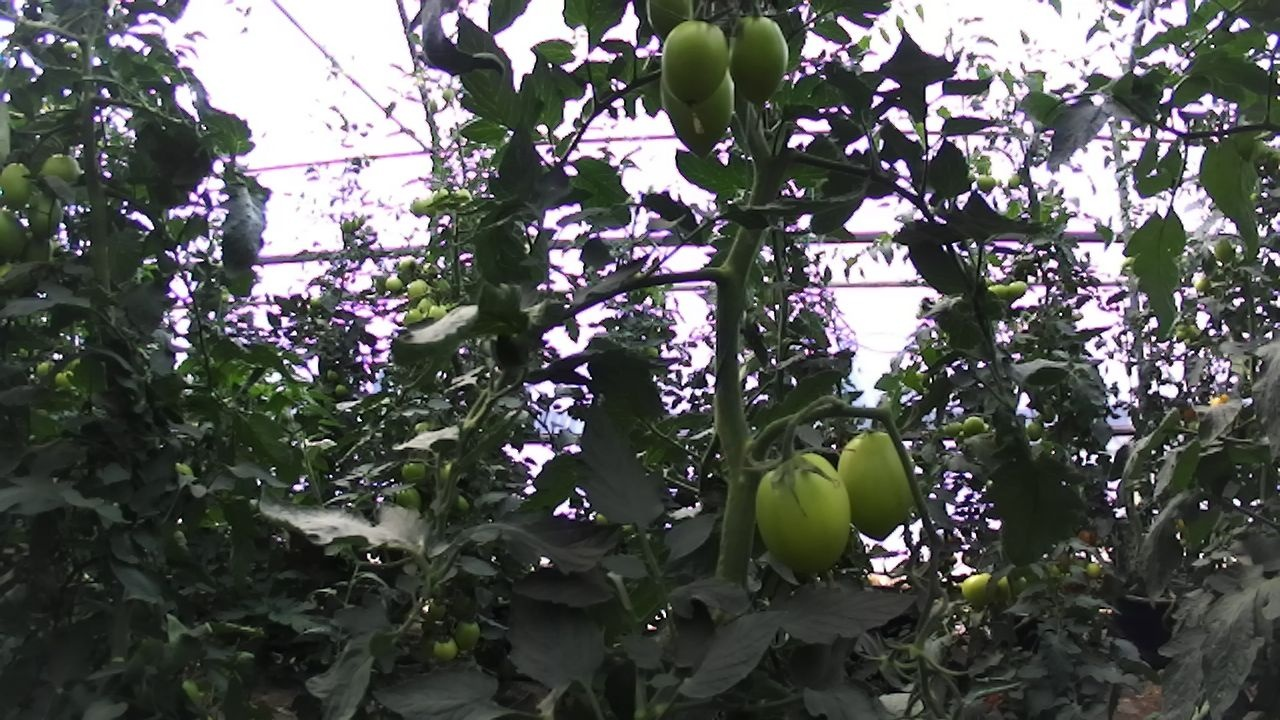tomato: (742, 440, 882, 593), (833, 412, 934, 554), (653, 46, 756, 166), (714, 4, 803, 123), (650, 8, 743, 121), (35, 145, 88, 199), (957, 563, 1008, 617), (24, 183, 69, 244), (0, 152, 41, 214), (0, 200, 33, 267), (14, 226, 61, 273), (451, 611, 485, 657), (430, 629, 464, 666), (394, 483, 427, 518), (959, 411, 993, 444), (398, 455, 431, 487), (1211, 234, 1239, 266), (972, 169, 1002, 198), (403, 274, 433, 303), (428, 183, 455, 213), (394, 252, 422, 280), (381, 271, 410, 298), (424, 299, 451, 328), (400, 303, 428, 330), (51, 365, 78, 393), (33, 355, 60, 381), (988, 276, 1012, 305), (1024, 417, 1049, 444), (418, 191, 441, 220), (1006, 274, 1030, 301), (409, 194, 430, 220), (1082, 558, 1105, 581), (1003, 170, 1026, 192), (1192, 272, 1213, 296), (333, 381, 351, 401), (324, 365, 342, 385)
